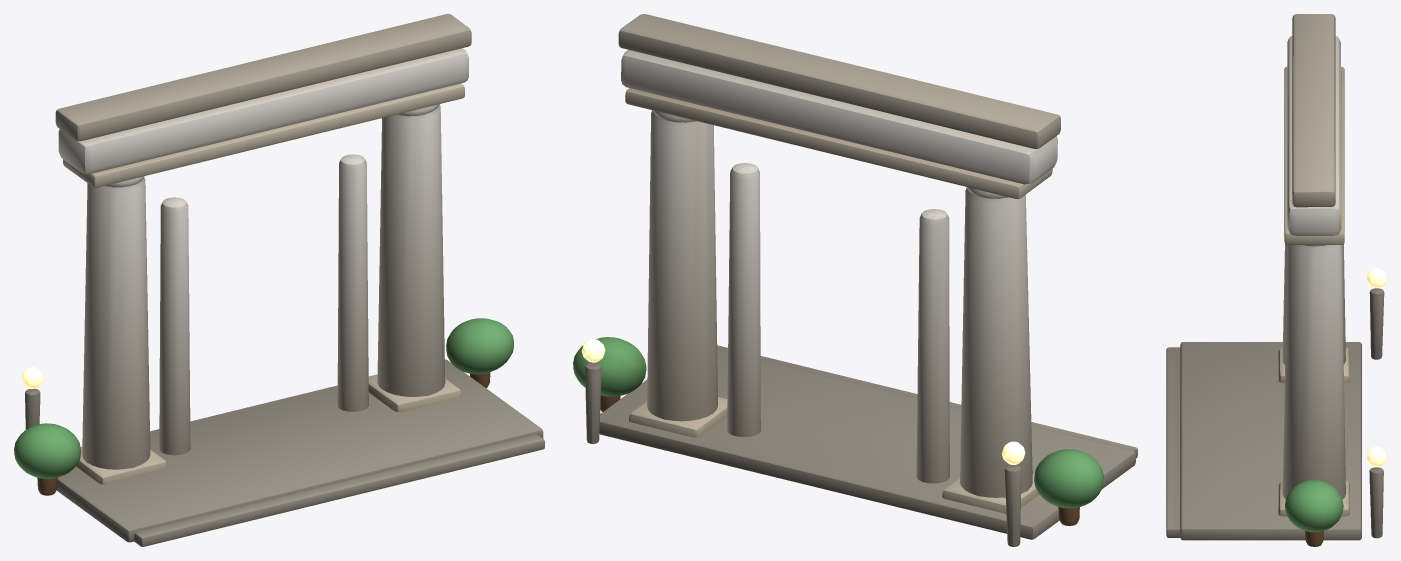
3 renders of one model, left to right at view 1: azimuth 30°, elevation 25°; view 2: azimuth 150°, elevation 25°; view 3: azimuth 270°, elevation 25°, orthographic. The views are drawn at different scales.
Parts seen in each view (by area): view 1: gate_a3d7fcce; view 2: gate_a3d7fcce; view 3: gate_a3d7fcce.
Boxes of the visible parts, bbox=[...] form: gate_a3d7fcce: bbox=[14, 14, 544, 546]; gate_a3d7fcce: bbox=[573, 14, 1137, 546]; gate_a3d7fcce: bbox=[1166, 14, 1386, 546].
Bounding box in the file's own units: 6.09 × 4.41 × 2.54.
